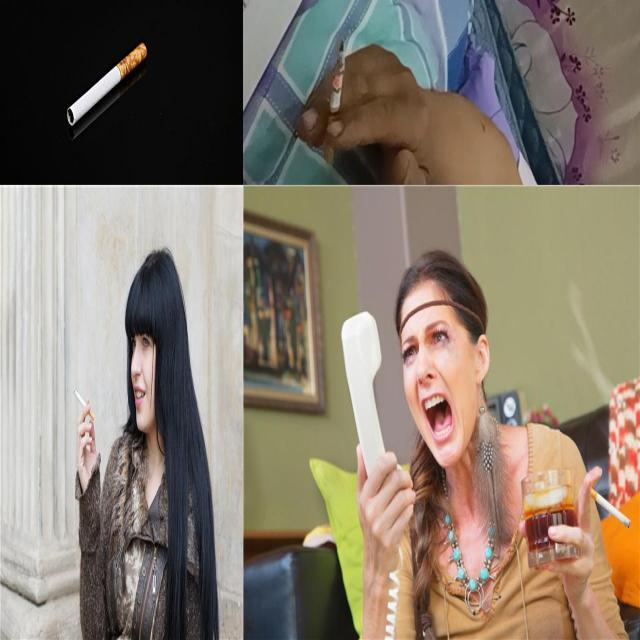smoke: (66, 44, 148, 128), (322, 39, 346, 163), (586, 482, 630, 528), (72, 384, 95, 424)
